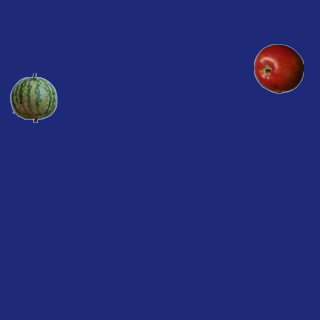Apple Braeburn: (253, 43, 303, 93)
Watermelon: (8, 72, 58, 122)
